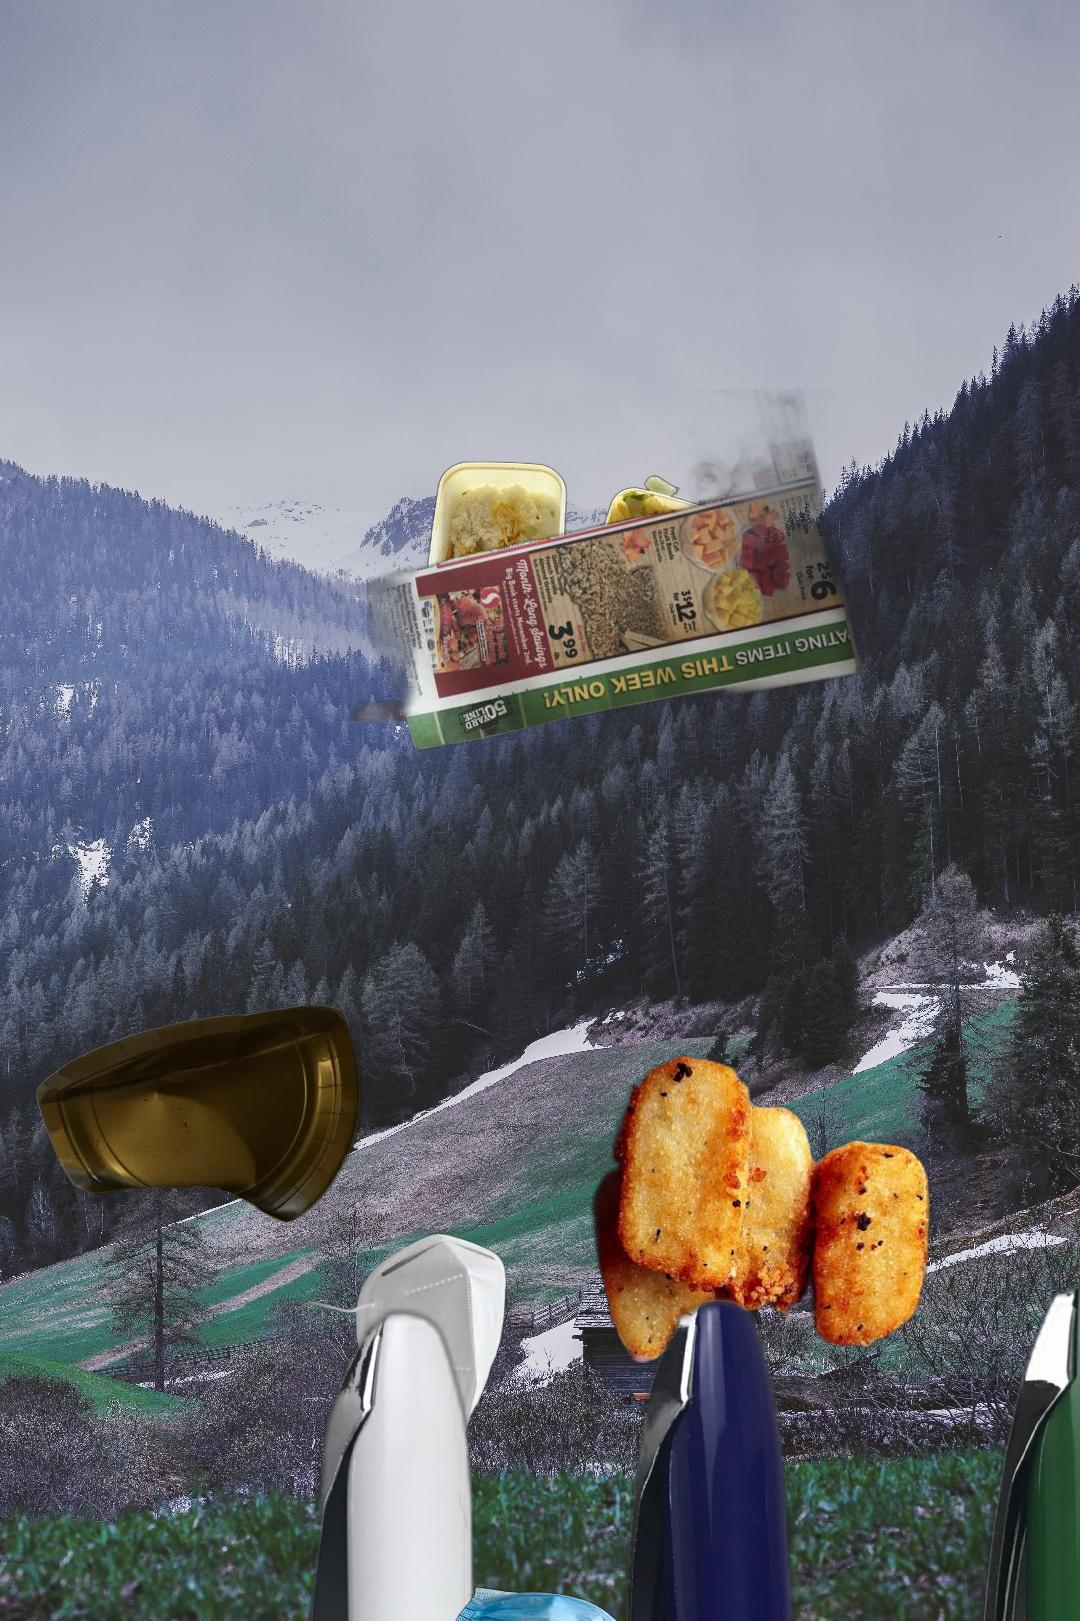biological: (585, 1051, 937, 1369), (327, 462, 729, 721)
paper: (366, 389, 879, 773), (31, 1002, 366, 1224)
penholder: (292, 1257, 1080, 1621)
trash: (297, 1231, 513, 1441), (405, 1581, 705, 1621)
